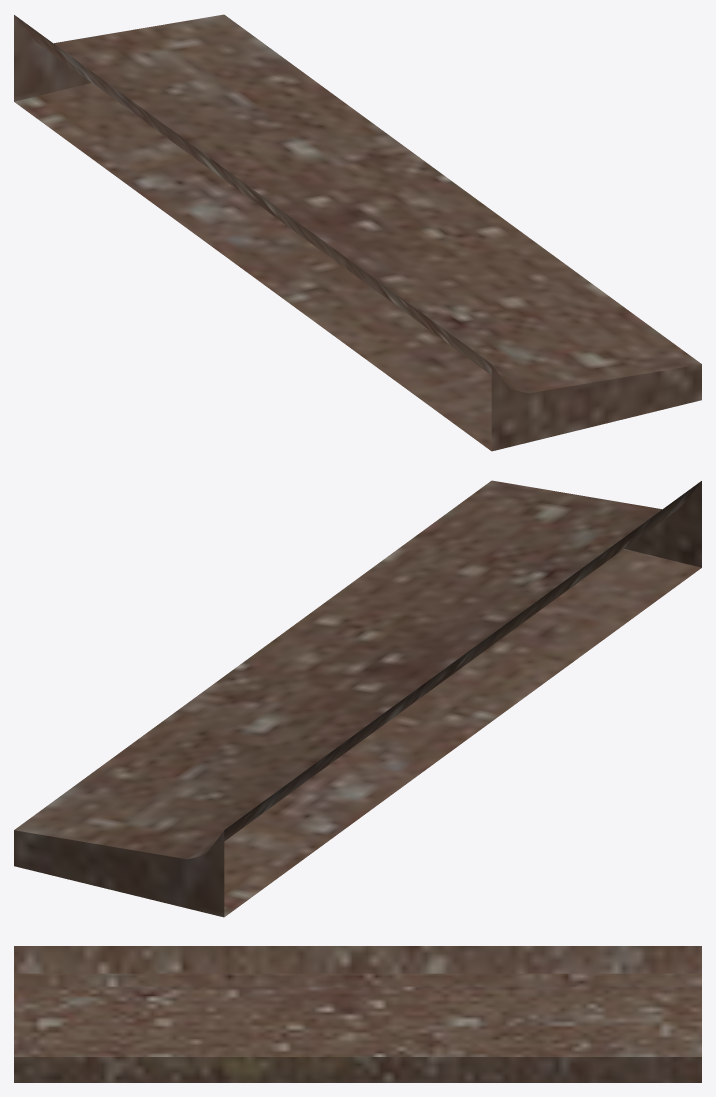
The model's file is WindowTop_M.FBX.
3 views of the same model, one above another, from view 1: azimuth 30°, elevation 25°; view 2: azimuth 150°, elevation 25°; view 3: azimuth 270°, elevation 25° (orthographic). The views are drawn at different scales.
Parts seen in each view (by area): view 1: WindowTop_M; view 2: WindowTop_M; view 3: WindowTop_M.
Boxes of the visible parts, x1=… form: WindowTop_M: x1=14, y1=14, x2=701, y2=451; WindowTop_M: x1=14, y1=480, x2=701, y2=917; WindowTop_M: x1=14, y1=946, x2=701, y2=1082.
Size of the model in its own units: 80.93 by 32.1 by 318.
